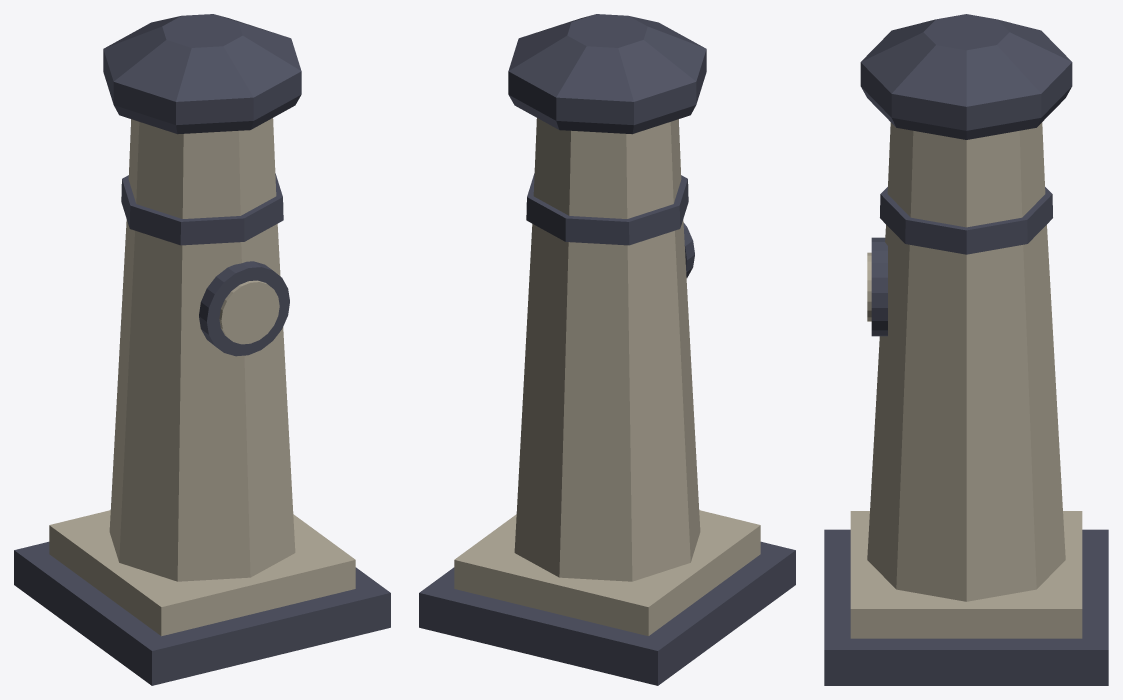
File: post_plain.glb
3 views of the same model, side by side, from view 1: azimuth 30°, elevation 25°; view 2: azimuth 150°, elevation 25°; view 3: azimuth 270°, elevation 25° (orthographic). The views are drawn at different scales.
Parts seen in each view (by area): view 1: PostPlain; view 2: PostPlain; view 3: PostPlain.
Boxes of the visible parts, x1=… form: PostPlain: x1=14, y1=14, x2=390, y2=685; PostPlain: x1=419, y1=14, x2=795, y2=685; PostPlain: x1=824, y1=14, x2=1108, y2=685.
Size of the model in its own units: 0.86 by 1.98 by 0.86.
